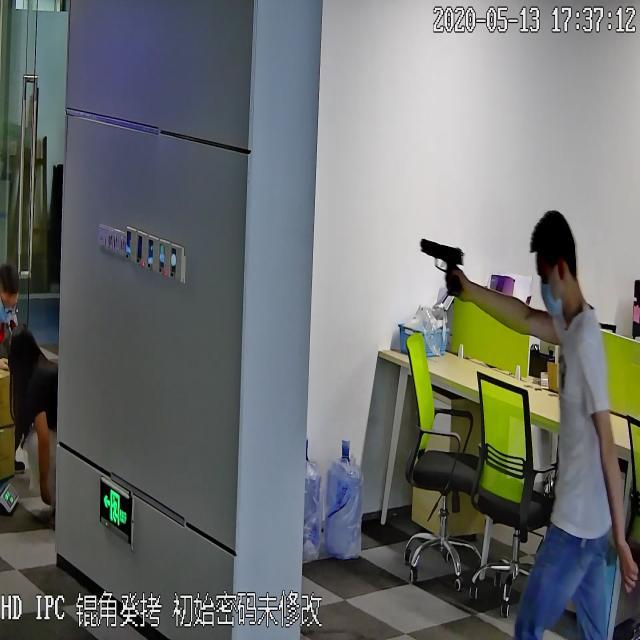gun-knife-thesis - v11 Yolov5 augmented: (416, 232, 468, 300)
